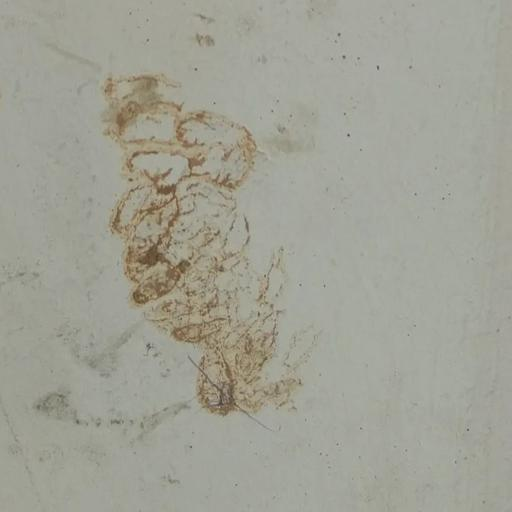stain: (36, 24, 357, 471)
